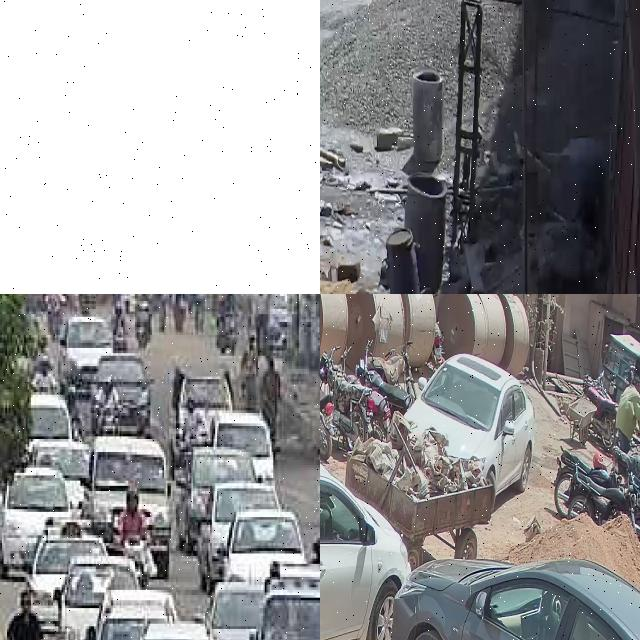bike: (320, 345, 374, 452), (340, 346, 391, 442), (552, 446, 616, 518), (565, 464, 637, 526), (356, 338, 412, 417), (366, 341, 416, 401), (584, 375, 617, 451), (116, 530, 156, 587), (320, 345, 338, 459), (613, 439, 640, 491)
car: (404, 354, 534, 506), (320, 430, 411, 640)
